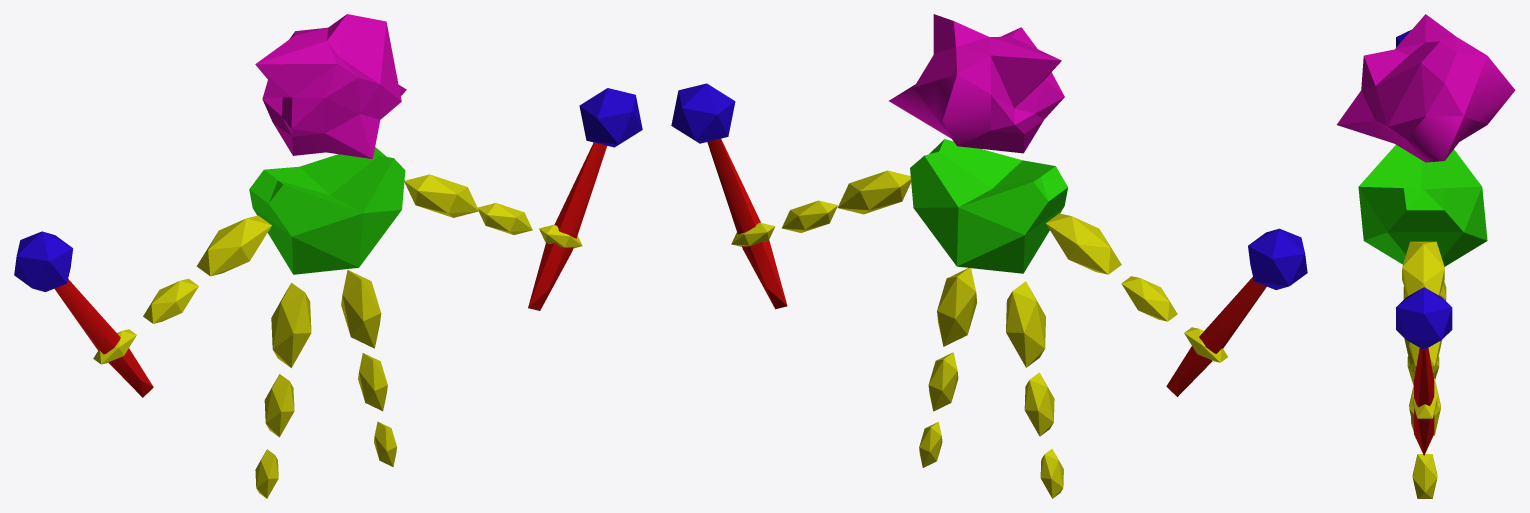
The model's file is NormalEnemy.fbx.
3 renders of one model, left to right at view 1: azimuth 30°, elevation 25°; view 2: azimuth 150°, elevation 25°; view 3: azimuth 270°, elevation 25°, orthographic. The views are drawn at different scales.
Parts seen in each view (by area): view 1: Platonic_14, Platonic_12, Platonic_1_3, Platonic_1_1, Platonic_1_2, Platonic_1_2_2, Platonic_3, Platonic_1, Platonic_2, Platonic; view 2: Platonic_12, Platonic_14, Platonic_1_3, Platonic_1_1, Platonic_1_2, Platonic_1_2_2, Platonic_3, Platonic_1, Platonic_2, Platonic; view 3: Platonic_14, Platonic_12, Platonic_1_2_2, Platonic_1, Platonic_3, Platonic_1_2, Platonic_1_3.
Part boxes in pixels (box(x1,y1,x2,y2)): Platonic_14: box(255, 14, 406, 158); Platonic_12: box(249, 147, 405, 274); Platonic_1_3: box(255, 282, 311, 498); Platonic_1_1: box(93, 215, 271, 364); Platonic_1_2: box(341, 270, 396, 466); Platonic_1_2_2: box(404, 174, 582, 248); Platonic_3: box(528, 142, 606, 310); Platonic_1: box(579, 88, 642, 147); Platonic_2: box(54, 279, 153, 397); Platonic: box(14, 231, 72, 291); Platonic_12: box(910, 139, 1067, 273); Platonic_14: box(889, 14, 1064, 153); Platonic_1_3: box(1006, 281, 1063, 498); Platonic_1_1: box(1046, 213, 1227, 362); Platonic_1_2: box(919, 268, 977, 467); Platonic_1_2_2: box(731, 170, 911, 246); Platonic_3: box(707, 138, 787, 309); Platonic_1: box(671, 83, 735, 143); Platonic_2: box(1166, 277, 1266, 396); Platonic: box(1248, 228, 1307, 289); Platonic_14: box(1336, 14, 1515, 162); Platonic_12: box(1358, 145, 1487, 266); Platonic_1_2_2: box(1402, 241, 1444, 418); Platonic_1: box(1396, 287, 1452, 349); Platonic_3: box(1414, 348, 1434, 455); Platonic_1_2: box(1404, 338, 1442, 498); Platonic_1_3: box(1403, 281, 1446, 431).
Size of the model in its own units: 292 by 204 by 75.01.
